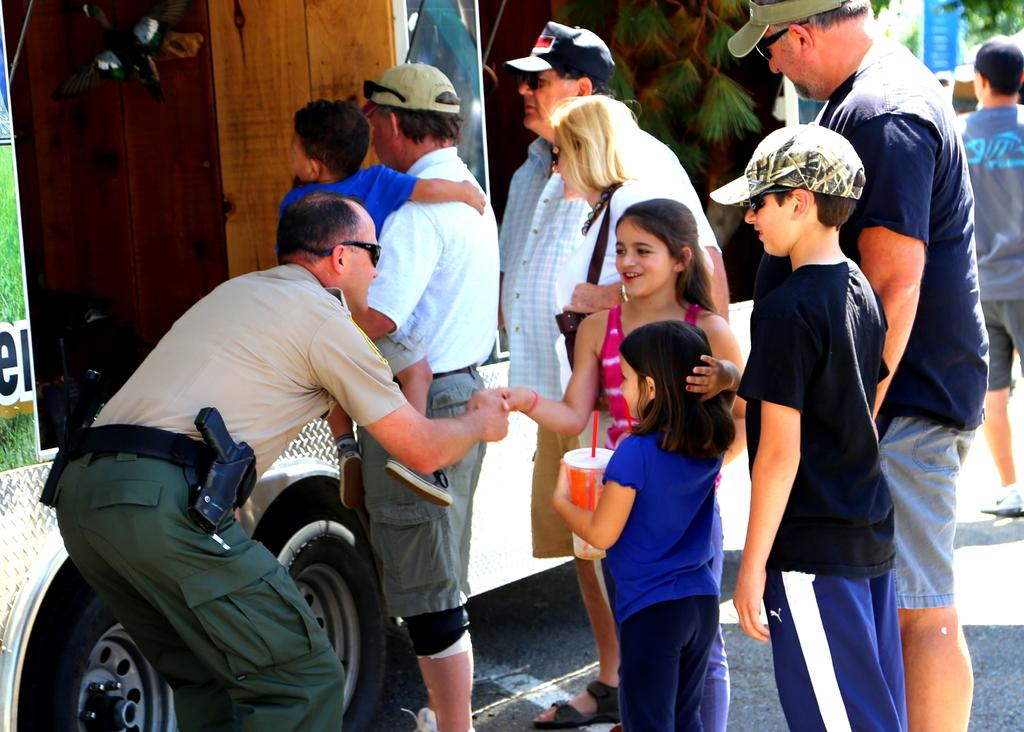Hat: (706, 117, 862, 208), (500, 19, 618, 81), (359, 58, 461, 116)
